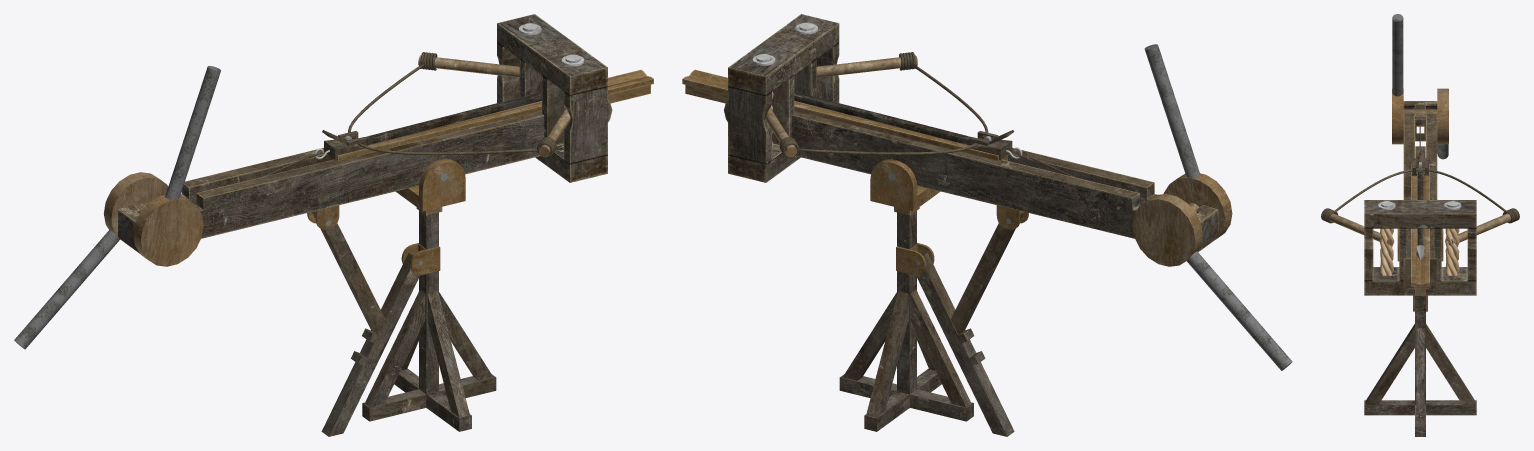
The model's file is ballista.glb.
The picture shows the model from 3 angles, left to right: view 1: azimuth 30°, elevation 25°; view 2: azimuth 150°, elevation 25°; view 3: azimuth 270°, elevation 25°; orthographic projection. The views are drawn at different scales.
Visible parts, largest first — view 1: Lauf_Material #29_0, Gestell_Material #30_0, Spanner_Material #31_0, Winkel_Material #33_0, Sehne_Material #32_0; view 2: Lauf_Material #29_0, Gestell_Material #30_0, Spanner_Material #31_0, Winkel_Material #33_0, Sehne_Material #32_0; view 3: Lauf_Material #29_0, Gestell_Material #30_0, Winkel_Material #33_0, Spanner_Material #31_0, Sehne_Material #32_0.
Part boxes in pixels (<box>): Lauf_Material #29_0: <box>118,14,653,253</box>; Gestell_Material #30_0: <box>312,210,496,436</box>; Spanner_Material #31_0: <box>14,65,329,349</box>; Winkel_Material #33_0: <box>307,23,584,275</box>; Sehne_Material #32_0: <box>322,52,556,159</box>; Lauf_Material #29_0: <box>682,14,1218,252</box>; Gestell_Material #30_0: <box>839,211,1023,436</box>; Spanner_Material #31_0: <box>1006,44,1292,370</box>; Winkel_Material #33_0: <box>752,22,1028,275</box>; Sehne_Material #32_0: <box>779,52,1013,159</box>; Lauf_Material #29_0: <box>1364,101,1476,295</box>; Gestell_Material #30_0: <box>1364,295,1476,436</box>; Winkel_Material #33_0: <box>1329,201,1511,311</box>; Spanner_Material #31_0: <box>1392,14,1448,159</box>; Sehne_Material #32_0: <box>1321,146,1519,259</box>.
Bounding box in the file's own units: 243 × 154 × 88.28.
5 materials, 5 textured.
